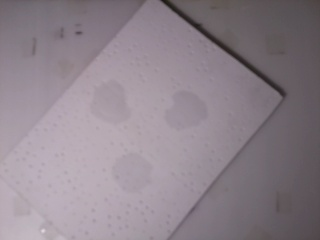Water_detected: (121, 159, 146, 191), (95, 79, 118, 110), (177, 100, 198, 125)
